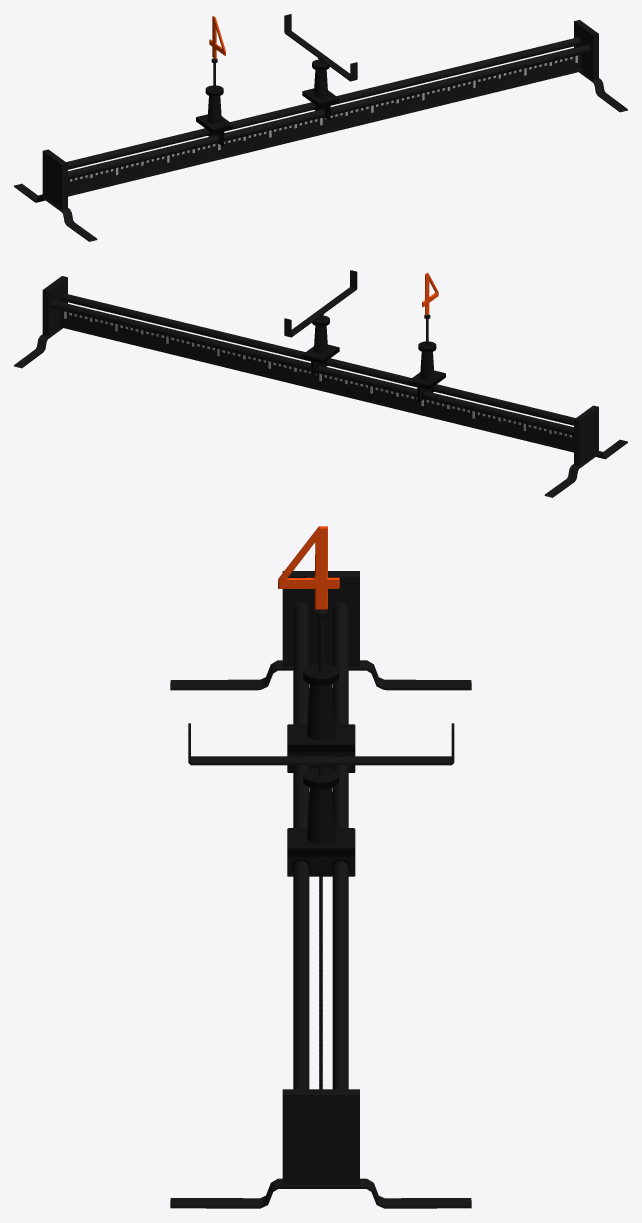
Rendered from xccx_4_dangban.obj.
3 renders of one model, top to bottom at view 1: azimuth 30°, elevation 25°; view 2: azimuth 150°, elevation 25°; view 3: azimuth 270°, elevation 25°, orthographic. The views are drawn at different scales.
Parts seen in each view (by area): view 1: xiaokongchengxiang xkcx_guanzi, xiaokongchengxiang xkcx_chizi, xiaokongchengxiang xkcx_dizuo_back, xiaokongchengxiang xkcx_hengla_dangban, xiaokongchengxiang xkcx_dizuo_front, xiaokongchengxiang xkcx_hengla_4, xkcx_4 xiaokongchengxiang; view 2: xiaokongchengxiang xkcx_guanzi, xiaokongchengxiang xkcx_chizi, xiaokongchengxiang xkcx_dizuo_back, xiaokongchengxiang xkcx_hengla_dangban, xiaokongchengxiang xkcx_dizuo_front, xiaokongchengxiang xkcx_hengla_4, xkcx_4 xiaokongchengxiang; view 3: xiaokongchengxiang xkcx_guanzi, xiaokongchengxiang xkcx_dizuo_front, xiaokongchengxiang xkcx_hengla_dangban, xiaokongchengxiang xkcx_dizuo_back, xiaokongchengxiang xkcx_hengla_4, xkcx_4 xiaokongchengxiang.
Part boxes in pixels (bbox=[...]): xiaokongchengxiang xkcx_guanzi: bbox=[66, 37, 590, 196]; xiaokongchengxiang xkcx_chizi: bbox=[68, 54, 581, 194]; xiaokongchengxiang xkcx_dizuo_back: bbox=[14, 149, 97, 241]; xiaokongchengxiang xkcx_hengla_dangban: bbox=[284, 14, 357, 119]; xiaokongchengxiang xkcx_dizuo_front: bbox=[574, 20, 627, 112]; xiaokongchengxiang xkcx_hengla_4: bbox=[196, 58, 232, 145]; xkcx_4 xiaokongchengxiang: bbox=[209, 16, 225, 59]; xiaokongchengxiang xkcx_guanzi: bbox=[51, 293, 575, 452]; xiaokongchengxiang xkcx_chizi: bbox=[60, 310, 573, 450]; xiaokongchengxiang xkcx_dizuo_back: bbox=[544, 405, 627, 497]; xiaokongchengxiang xkcx_hengla_dangban: bbox=[284, 270, 357, 375]; xiaokongchengxiang xkcx_dizuo_front: bbox=[14, 276, 67, 368]; xiaokongchengxiang xkcx_hengla_4: bbox=[408, 314, 445, 401]; xkcx_4 xiaokongchengxiang: bbox=[422, 272, 438, 315]; xiaokongchengxiang xkcx_guanzi: bbox=[293, 602, 348, 1089]; xiaokongchengxiang xkcx_dizuo_front: bbox=[170, 1089, 471, 1208]; xiaokongchengxiang xkcx_hengla_dangban: bbox=[188, 723, 454, 876]; xiaokongchengxiang xkcx_dizuo_back: bbox=[170, 571, 471, 690]; xiaokongchengxiang xkcx_hengla_4: bbox=[287, 609, 355, 772]; xkcx_4 xiaokongchengxiang: bbox=[278, 526, 339, 609].
Bounding box in the file's own units: 107 × 29.89 × 25.88.
